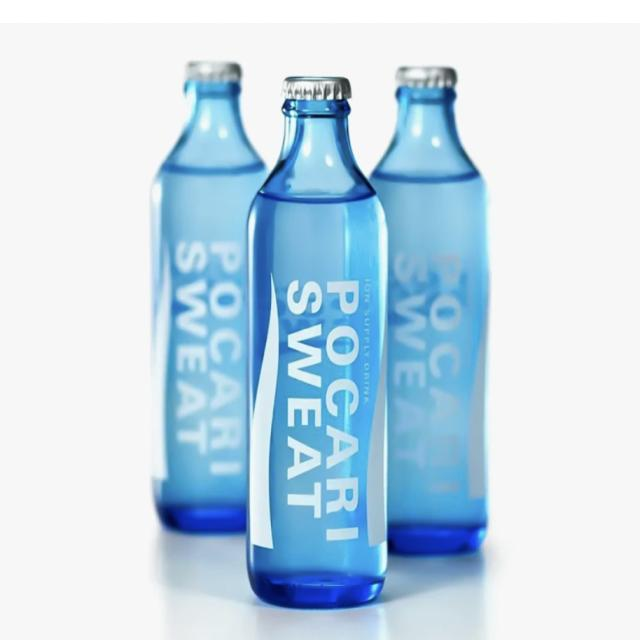recyclable: (233, 99, 398, 622)
